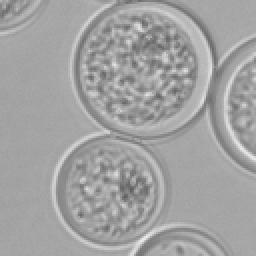picoshell: (70, 0, 212, 136), (56, 136, 164, 246), (210, 36, 254, 176), (130, 226, 224, 254)
